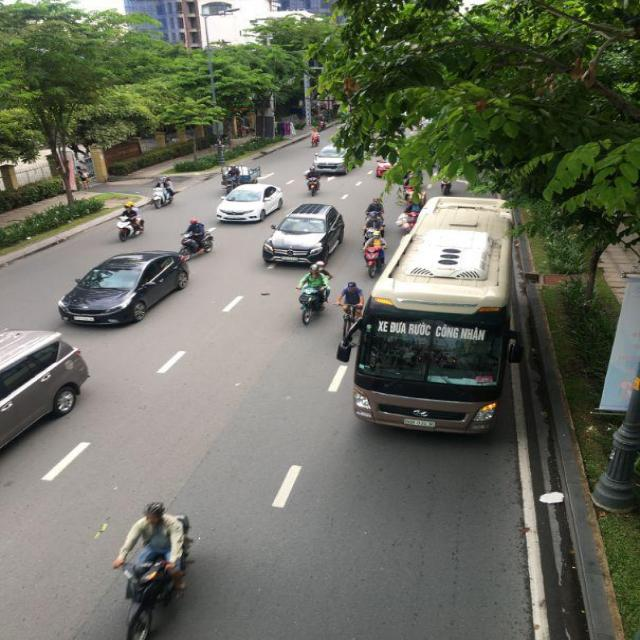bus: (350, 194, 521, 436)
car: (2, 318, 92, 505), (59, 252, 191, 327), (261, 203, 344, 267), (216, 184, 284, 223), (314, 149, 346, 178)
motorcycle: (119, 540, 190, 640), (336, 299, 364, 362), (298, 284, 329, 326), (362, 237, 387, 278), (117, 212, 144, 240), (153, 186, 174, 209)
